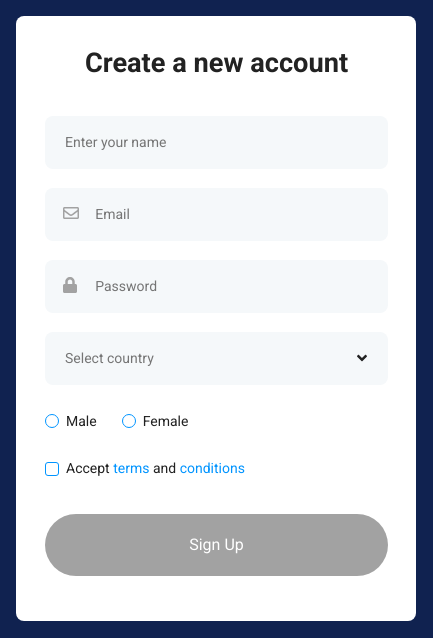
Error handling › Name input should be valid with latin chars only
In the field with placeholder "Enter your name": coordinates (216, 142) [63,133,370,152], type "Ju1455^$#"
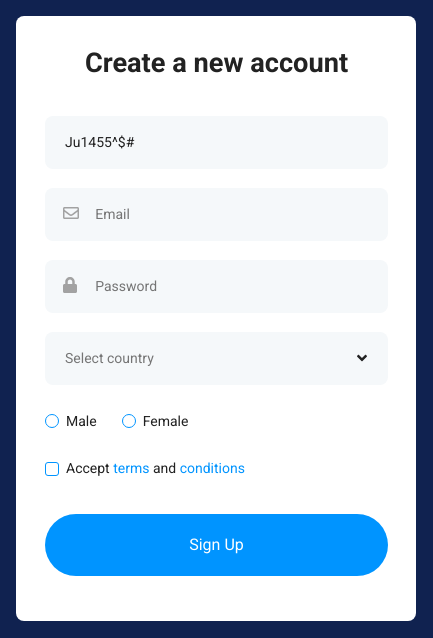
Leave the field with placeholder "Enter your name", box [63,133,370,152]
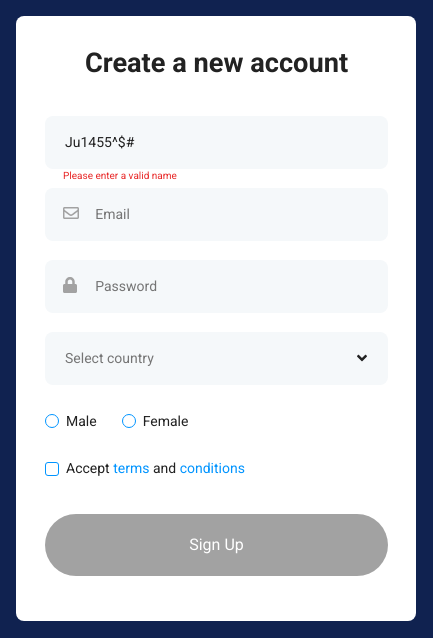
Check: the text "Please enter a valid name" is shown, box [63,170,177,181]
Replace the text in the field with placeholder "Enter your name" with "Julian": coordinates (216, 142) [63,133,370,152]
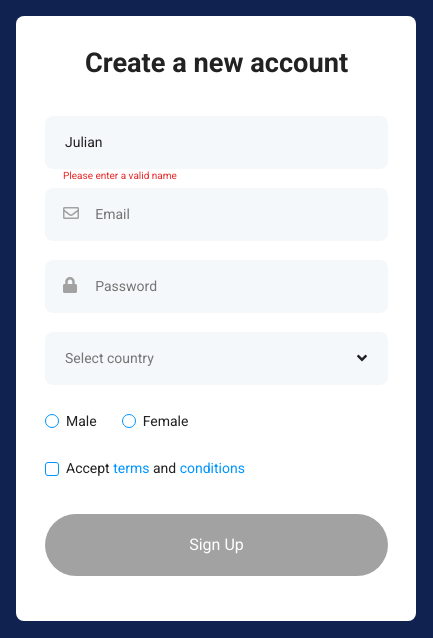
Leave the field with placeholder "Enter your name", box [63,133,370,152]
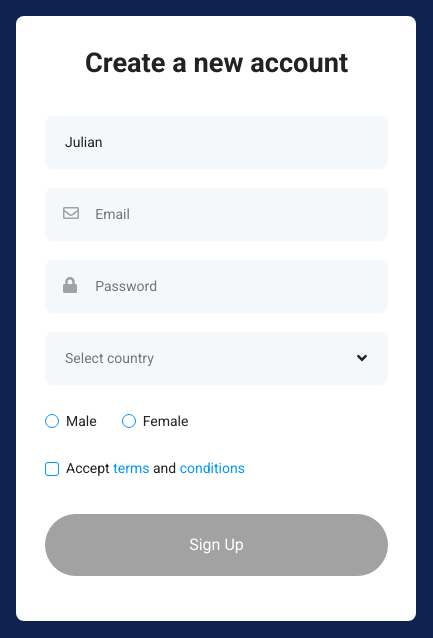
Check: the text "Please enter a valid name" is gone
